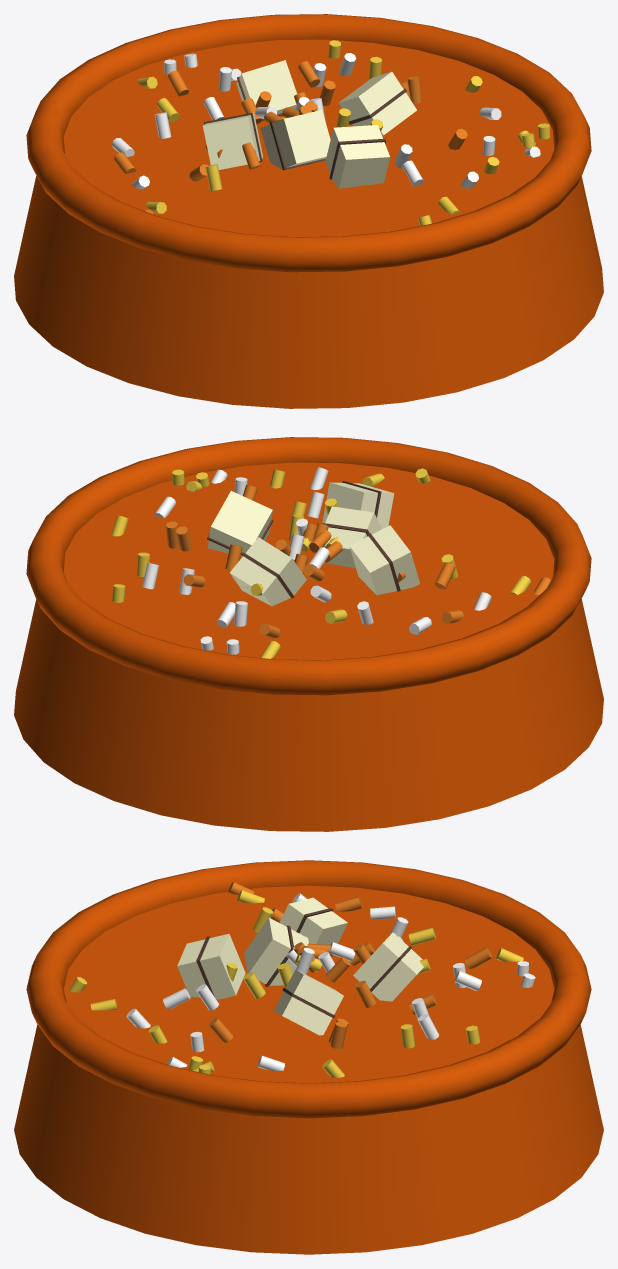
File: paneer-biryani.glb
The picture shows the model from 3 angles, top to bottom: view 1: azimuth 30°, elevation 25°; view 2: azimuth 150°, elevation 25°; view 3: azimuth 270°, elevation 25°; orthographic projection.
Size of the model in its own units: 1.9 by 0.6912 by 1.9.
